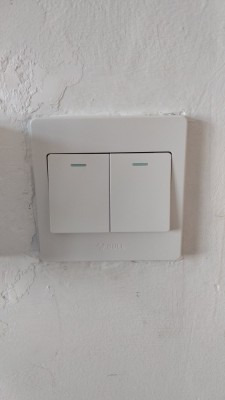switch: (42, 148, 115, 239), (105, 150, 178, 237)
